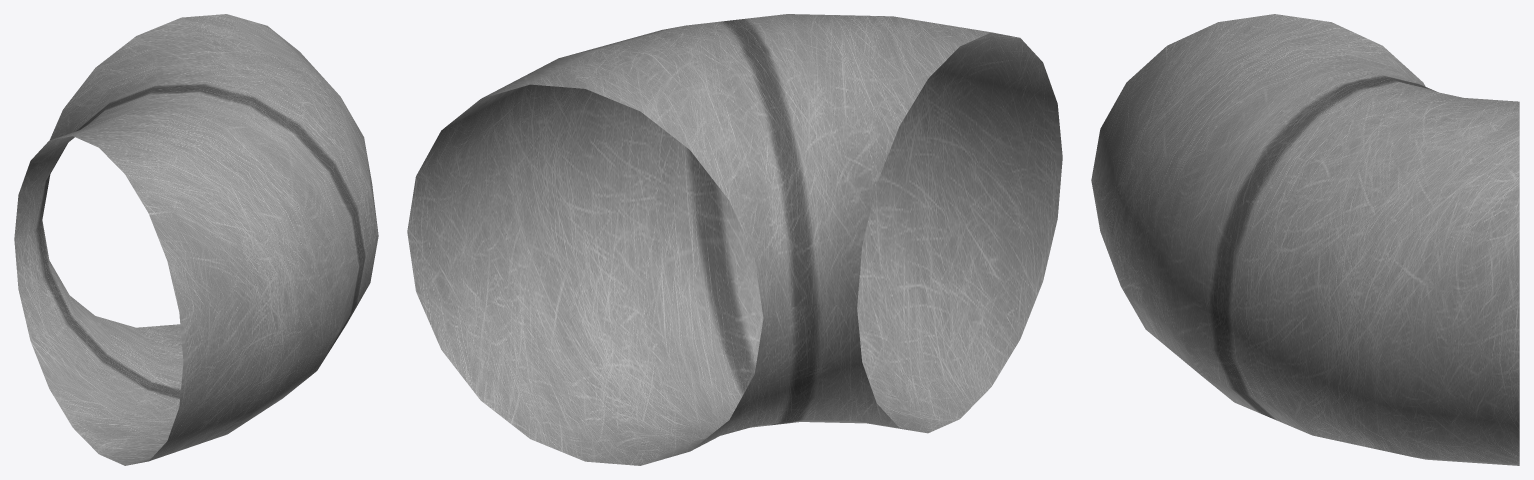
The model's file is BigPipes_Bend.fbx.
3 renders of one model, left to right at view 1: azimuth 30°, elevation 25°; view 2: azimuth 150°, elevation 25°; view 3: azimuth 270°, elevation 25°, orthographic. The views are drawn at different scales.
Visible parts, largest first — view 1: BigPipe_Bend; view 2: BigPipe_Bend; view 3: BigPipe_Bend.
Part boxes in pixels (<box>): BigPipe_Bend: <box>14,14,378,465</box>; BigPipe_Bend: <box>407,14,1062,465</box>; BigPipe_Bend: <box>1091,14,1519,465</box>.
Bounding box in the file's own units: 87.5 × 75 × 87.5.
Materials: 1 (1 with a texture image).
